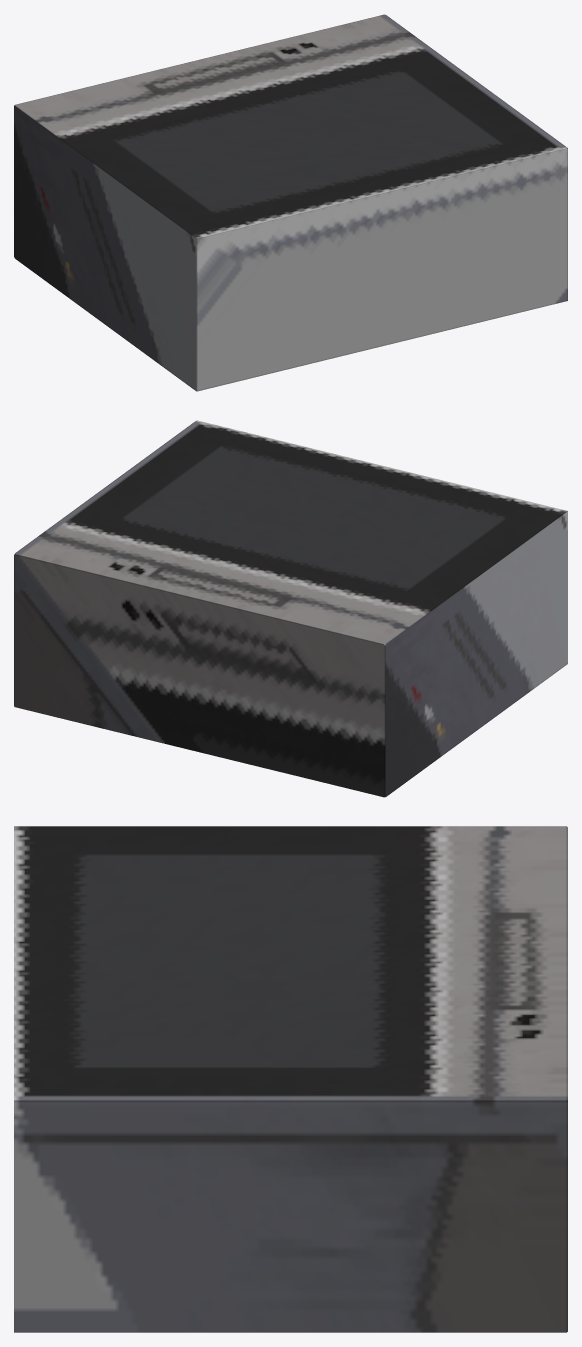
Rendered from pz_house_tv_premium.obj.
3 renders of one model, top to bottom at view 1: azimuth 30°, elevation 25°; view 2: azimuth 150°, elevation 25°; view 3: azimuth 270°, elevation 25°, orthographic. The views are drawn at different scales.
Parts seen in each view (by area): view 1: pz_house_tv_premium_|_1_parte_1; view 2: pz_house_tv_premium_|_1_parte_1; view 3: pz_house_tv_premium_|_1_parte_1.
Boxes of the visible parts, x1,y1,x2,y2 form: pz_house_tv_premium_|_1_parte_1: (14, 14, 567, 391); pz_house_tv_premium_|_1_parte_1: (14, 420, 567, 797); pz_house_tv_premium_|_1_parte_1: (14, 826, 567, 1332).
Bounding box in the file's own units: 0.8877 × 0.3497 × 0.7564.
1 material, 1 textured.
